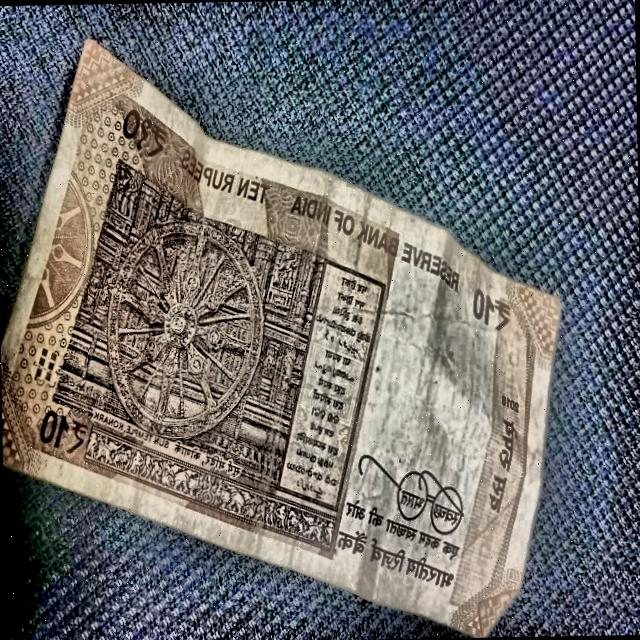-10-: (0, 15, 571, 605)
